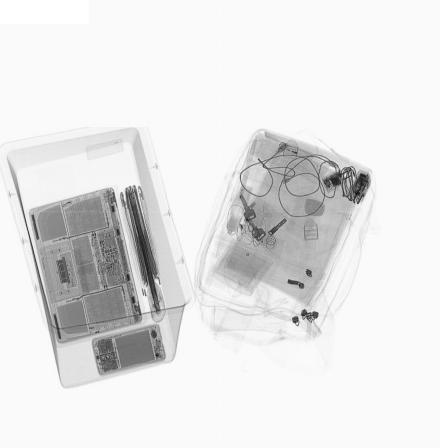Lighter: (276, 142, 314, 164)
